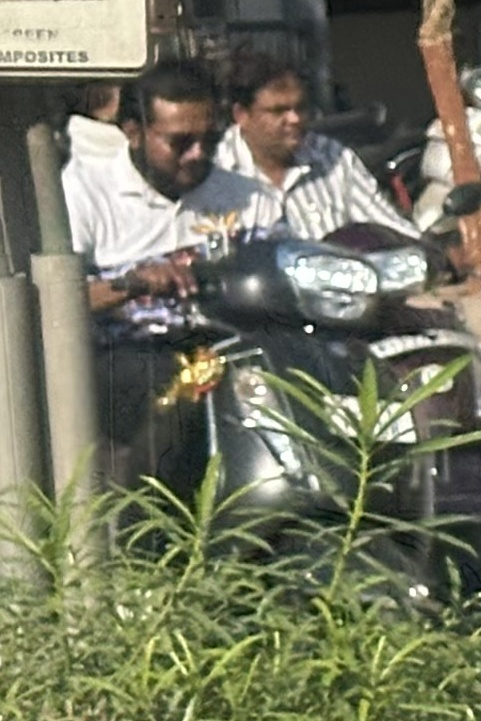BikeWithRider: (115, 30, 472, 635)
Helmet: (109, 52, 235, 197), (216, 43, 332, 168)
